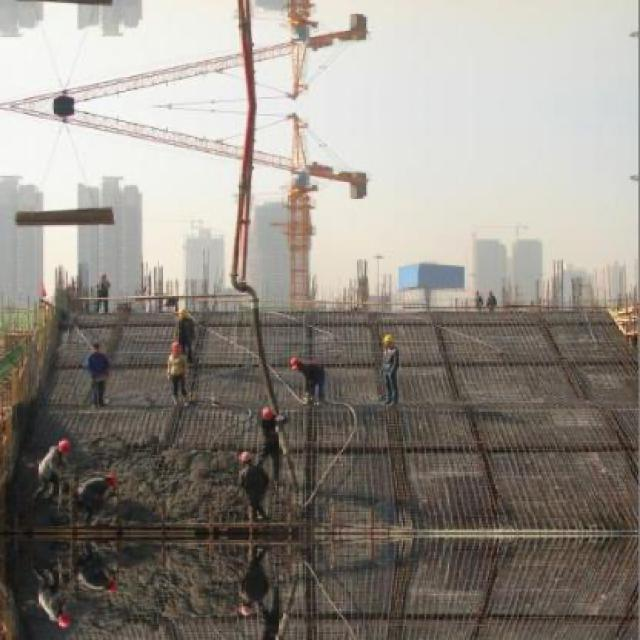con casco: (367, 315, 420, 357), (144, 330, 197, 363), (272, 338, 308, 374), (32, 429, 80, 454), (244, 432, 266, 482), (241, 405, 282, 431)
